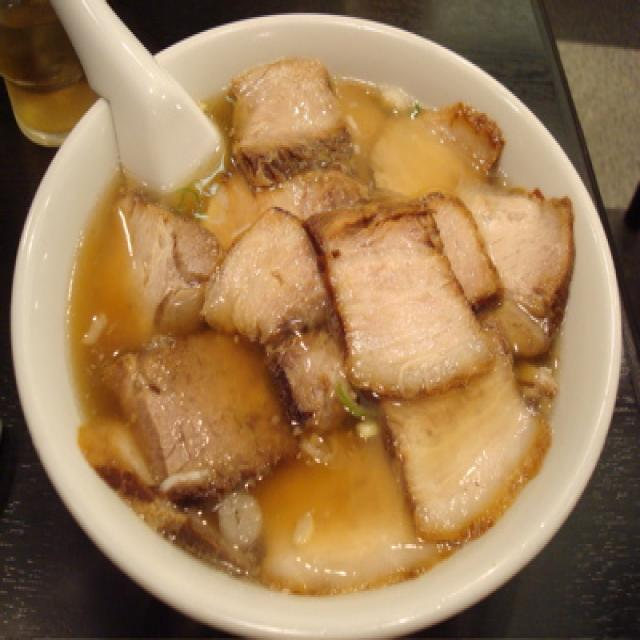面条主食: (59, 60, 576, 591)
